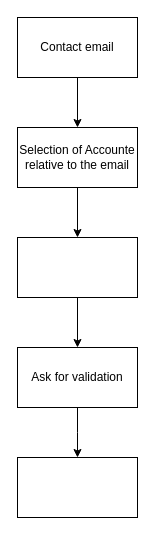
This 155x535 diagram has some shape labels left out. The shapes that lost their labels are listed below. From the top down, each one's centre as x and y in pixels, then its label:
At pixel 77 267: "Show account and contact information".
At pixel 77 487: "Zone of ticket création".
